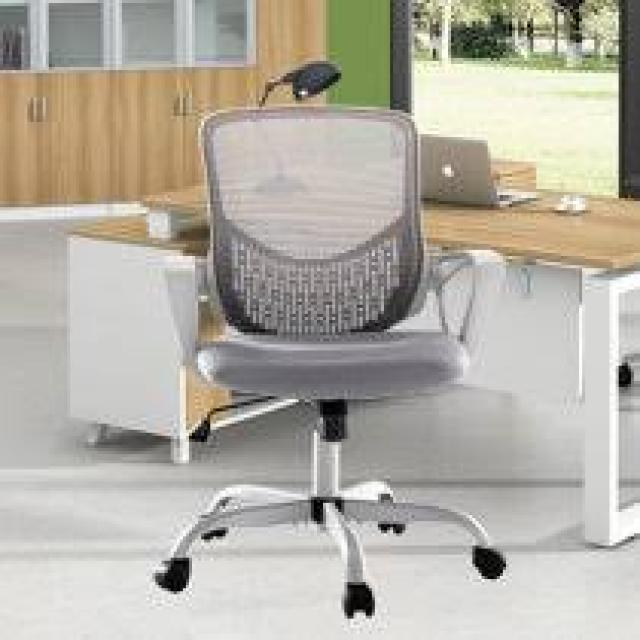chair: (39, 41, 609, 640)
